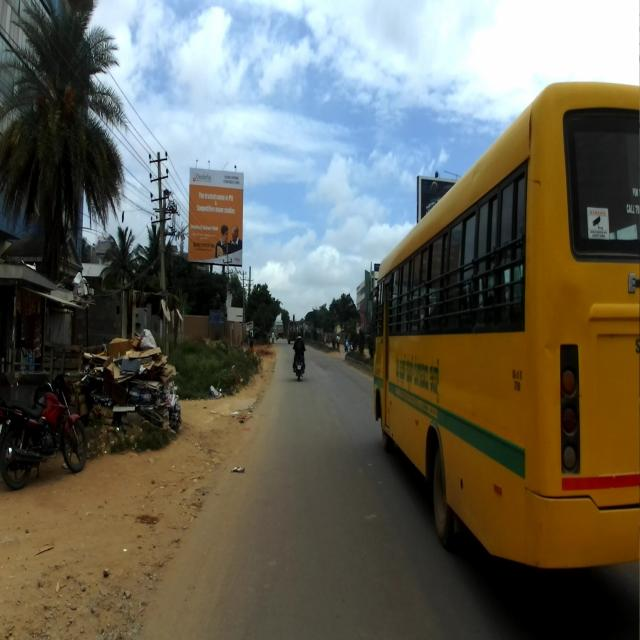bus: (364, 79, 640, 575)
motorcycle_Hero: (0, 371, 88, 490)
motorcycle_RoyalEnfield: (292, 340, 306, 380)
